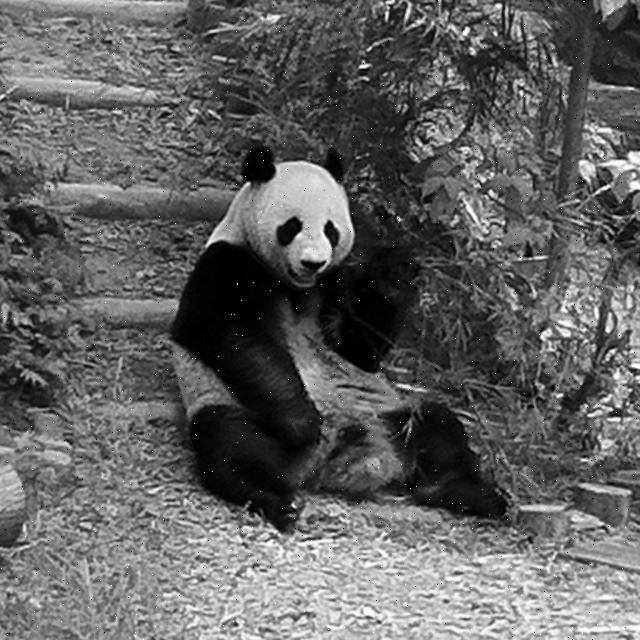panda: (164, 144, 515, 536)
